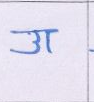aa_matra: (46, 33, 52, 53)
